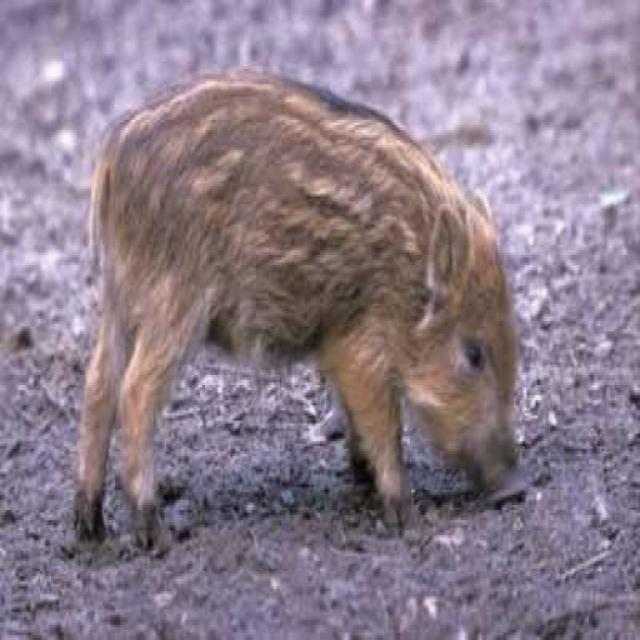pig: (66, 39, 596, 495)
